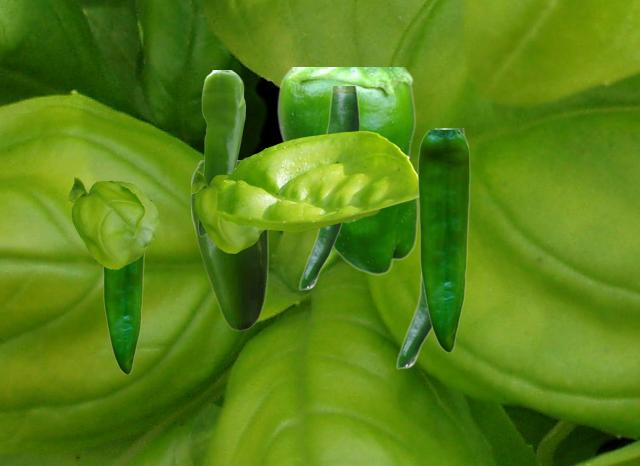green_chili: (276, 67, 417, 274), (395, 128, 465, 368), (191, 160, 267, 330), (298, 86, 358, 289), (417, 130, 469, 351), (198, 70, 244, 235), (102, 254, 144, 373)
